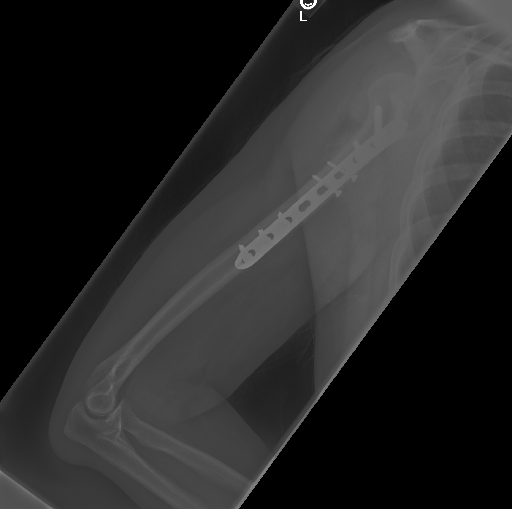implant: (234, 102, 413, 271)
